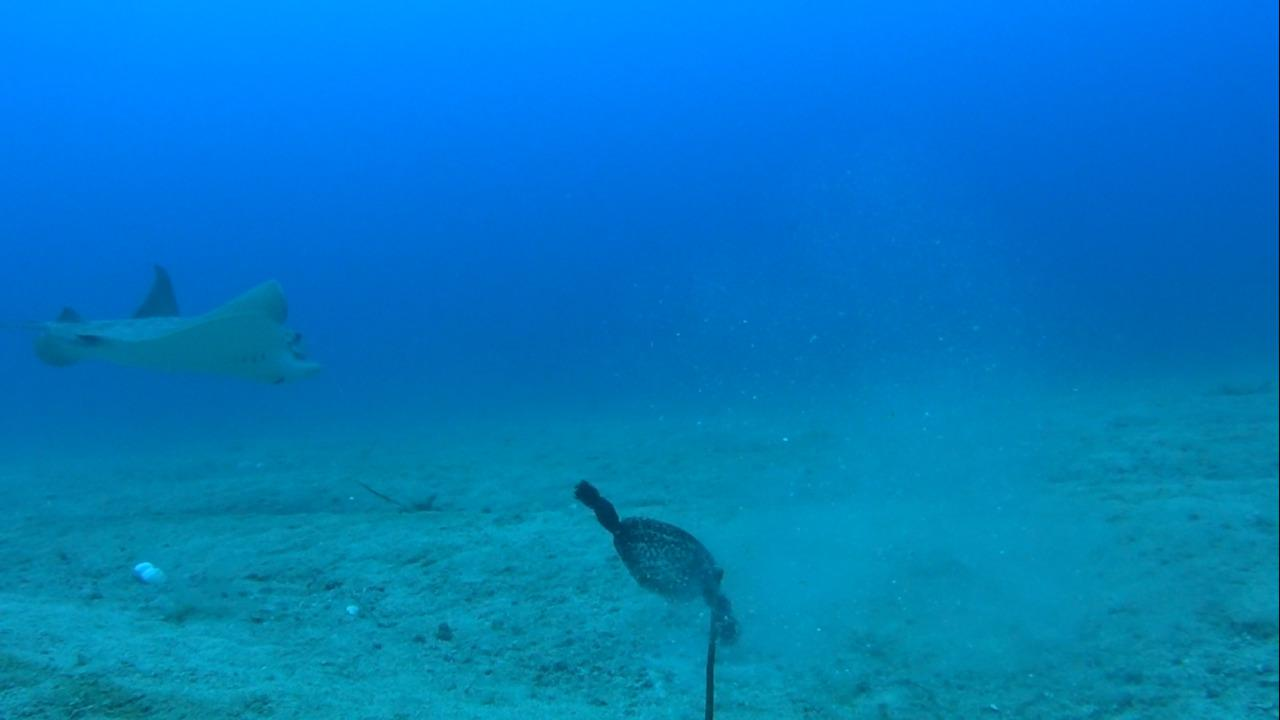myliobatis: (14, 260, 325, 404)
